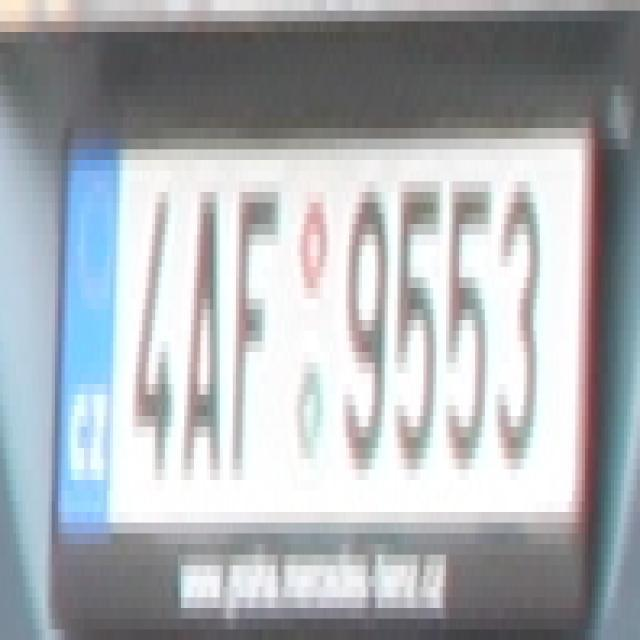3: (494, 160, 540, 470)
4: (130, 181, 174, 480)
5: (391, 160, 436, 480), (443, 160, 488, 470)
9: (336, 160, 388, 470)
A: (181, 159, 223, 502)
F: (229, 181, 278, 480)
